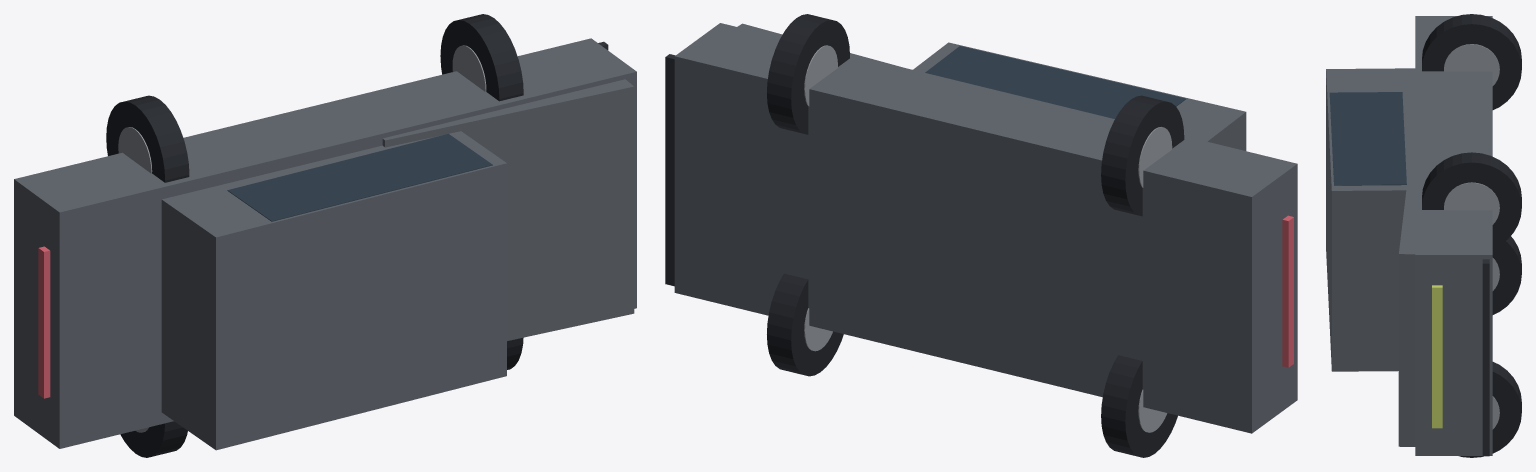
Rendered from wagon.glb.
3 views of the same model, side by side, from view 1: azimuth 30°, elevation 25°; view 2: azimuth 150°, elevation 25°; view 3: azimuth 270°, elevation 25° (orthographic). The views are drawn at different scales.
Parts seen in each view (by area): view 1: part2, part0, part1, part3, part6, part10, part13, part4, part11, part7; view 2: part0, part3, part6, part10, part8, part4, part2, part14, part13, part11, part7; view 3: part0, part2, part3, part1, part6, part10, part8, part4, part12, part14, part11, part7.
Part boxes in pixels (x1=…): part2: x1=161, y1=131, x2=506, y2=450; part0: x1=14, y1=38, x2=636, y2=448; part1: x1=382, y1=79, x2=634, y2=340; part3: x1=227, y1=133, x2=492, y2=221; part6: x1=106, y1=95, x2=189, y2=182; part10: x1=440, y1=14, x2=523, y2=101; part13: x1=38, y1=246, x2=50, y2=398; part4: x1=120, y1=421, x2=187, y2=457; part11: x1=452, y1=45, x2=486, y2=91; part7: x1=118, y1=127, x2=152, y2=173; part0: x1=674, y1=23, x2=1297, y2=433; part3: x1=925, y1=46, x2=1185, y2=118; part6: x1=1101, y1=95, x2=1184, y2=216; part10: x1=767, y1=14, x2=849, y2=134; part8: x1=767, y1=273, x2=843, y2=376; part4: x1=1101, y1=355, x2=1177, y2=457; part2: x1=913, y1=42, x2=1246, y2=150; part14: x1=665, y1=54, x2=675, y2=286; part13: x1=1282, y1=215, x2=1293, y2=367; part11: x1=804, y1=45, x2=837, y2=106; part7: x1=1138, y1=127, x2=1172, y2=187; part0: x1=1415, y1=16, x2=1492, y2=455; part2: x1=1326, y1=68, x2=1415, y2=371; part3: x1=1329, y1=92, x2=1406, y2=185; part1: x1=1398, y1=153, x2=1415, y2=446; part6: x1=1422, y1=14, x2=1521, y2=109; part10: x1=1422, y1=152, x2=1521, y2=248; part8: x1=1459, y1=362, x2=1521, y2=457; part4: x1=1492, y1=236, x2=1521, y2=314; part12: x1=1432, y1=285, x2=1442, y2=428; part14: x1=1482, y1=259, x2=1489, y2=456; part11: x1=1444, y1=182, x2=1499, y2=224; part7: x1=1444, y1=44, x2=1499, y2=85.
Size of the model in its own units: 4.89 by 2.74 by 1.64.
